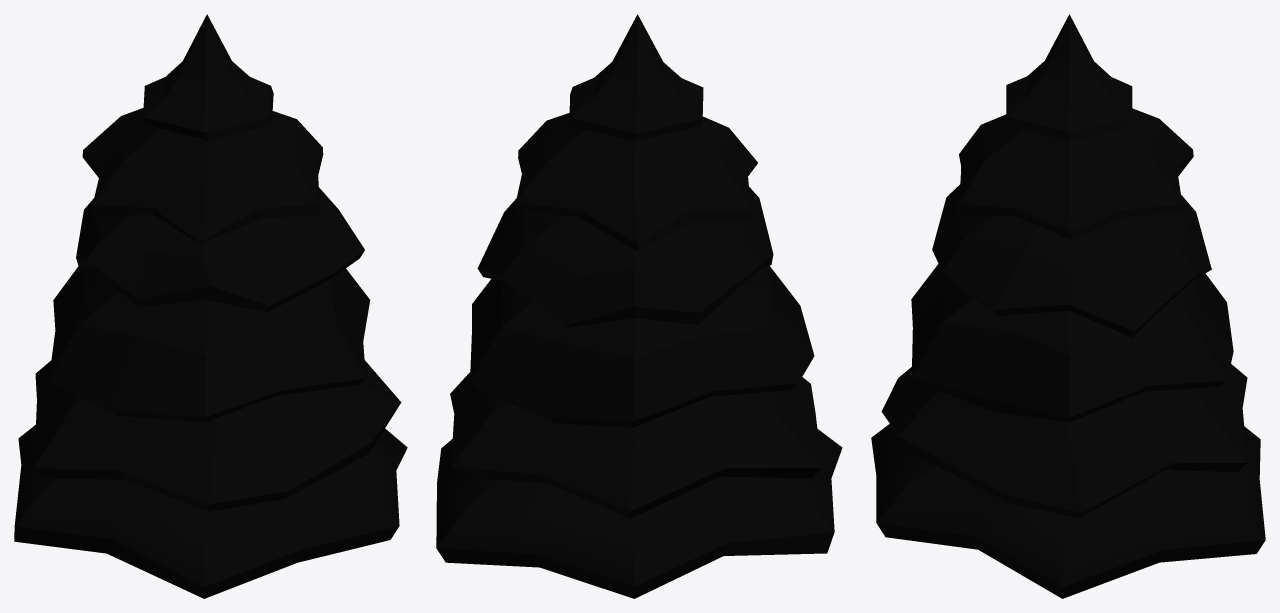
Rendered from Christmas_tree_LOW.fbx.
3 views of the same model, side by side, from view 1: azimuth 30°, elevation 25°; view 2: azimuth 150°, elevation 25°; view 3: azimuth 270°, elevation 25° (orthographic).
Parts seen in each view (by area): view 1: christmas_tree.002; view 2: christmas_tree.002; view 3: christmas_tree.002.
Part boxes in pixels (box(x1,y1,x2,y2)): christmas_tree.002: box(14, 14, 407, 598); christmas_tree.002: box(436, 14, 842, 598); christmas_tree.002: box(871, 14, 1265, 598).
Bounding box in the file's own units: 116 × 153 × 102.
